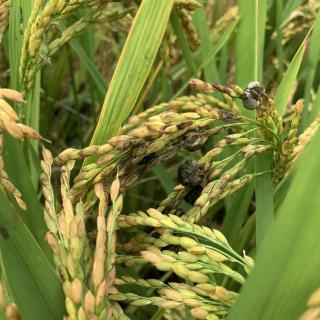Gosong-Palsu: (176, 159, 208, 204), (240, 80, 268, 110), (179, 125, 204, 153)
